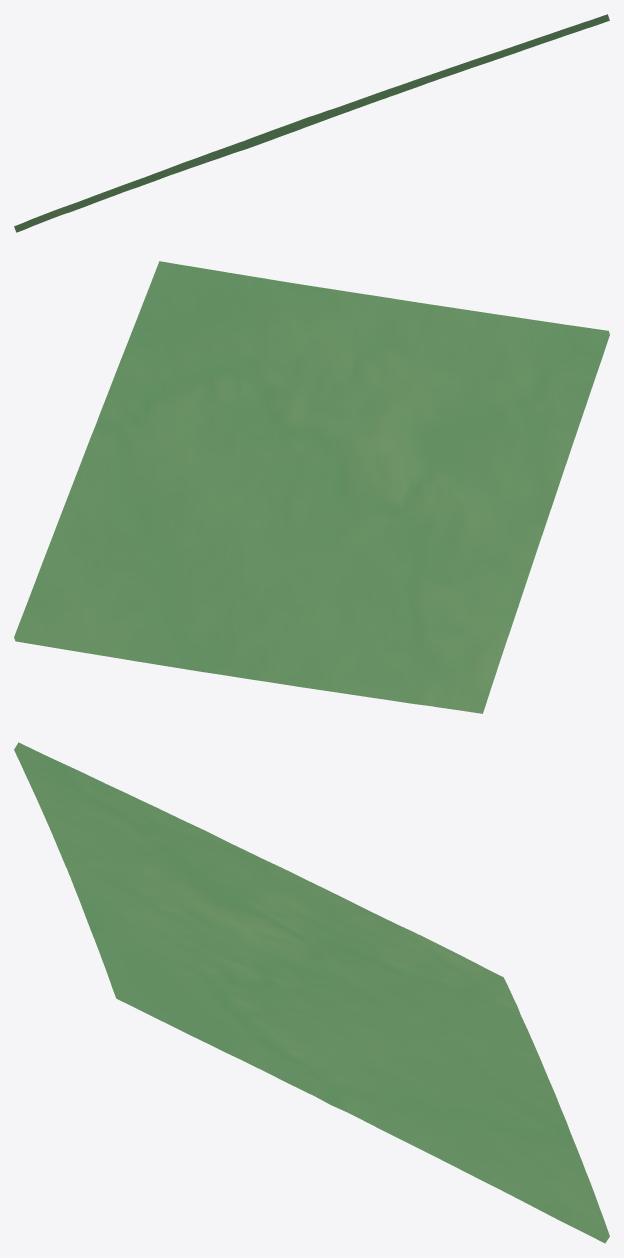
3 views of the same model, one above another, from view 1: azimuth 30°, elevation 25°; view 2: azimuth 150°, elevation 25°; view 3: azimuth 270°, elevation 25° (orthographic). The views are drawn at different scales.
Visible parts, largest first — view 1: geometry_0; view 2: geometry_0; view 3: geometry_0.
Part boxes in pixels (<box>): geometry_0: <box>14,14,609,232</box>; geometry_0: <box>14,261,609,713</box>; geometry_0: <box>14,742,609,1243</box>.
Bounding box in the file's own units: 185184 × 84373 × 160784.
